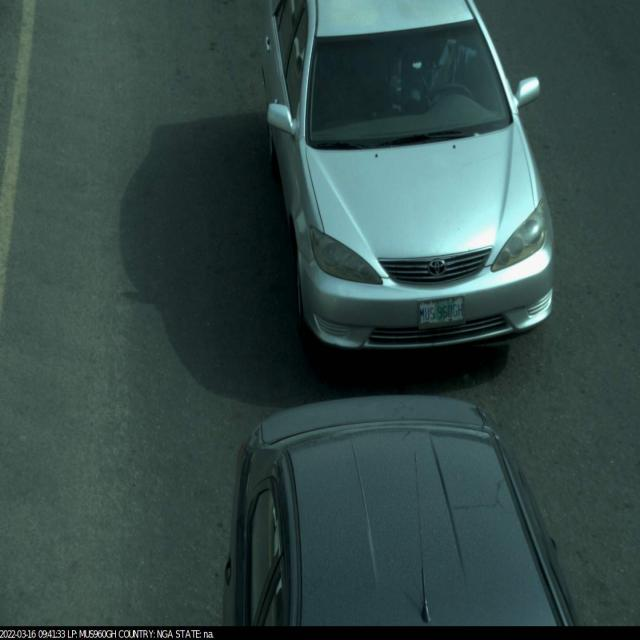windshield: (296, 12, 520, 154), (474, 214, 481, 227)
